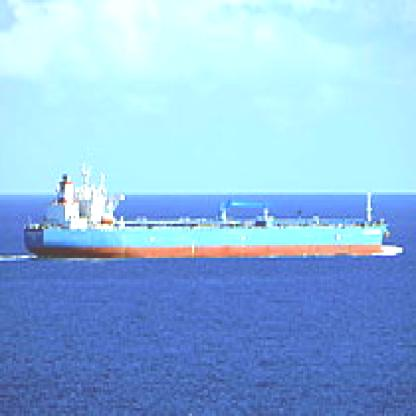Tanker: (29, 215, 393, 256)
